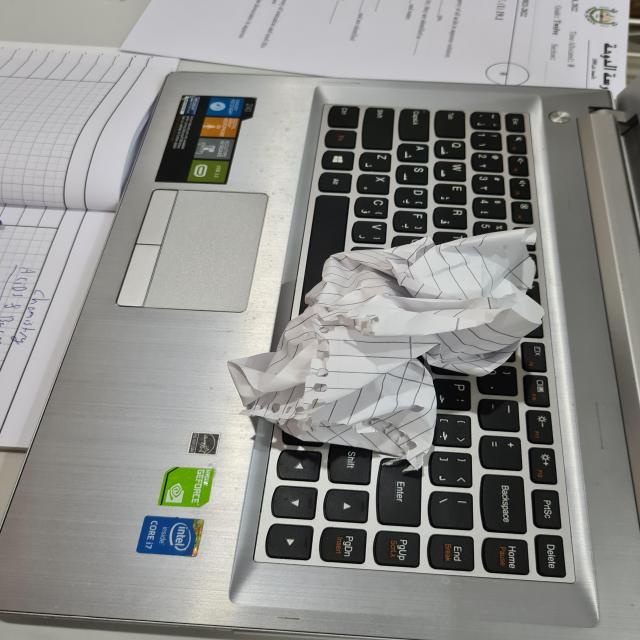kertas: (228, 232, 552, 453)
